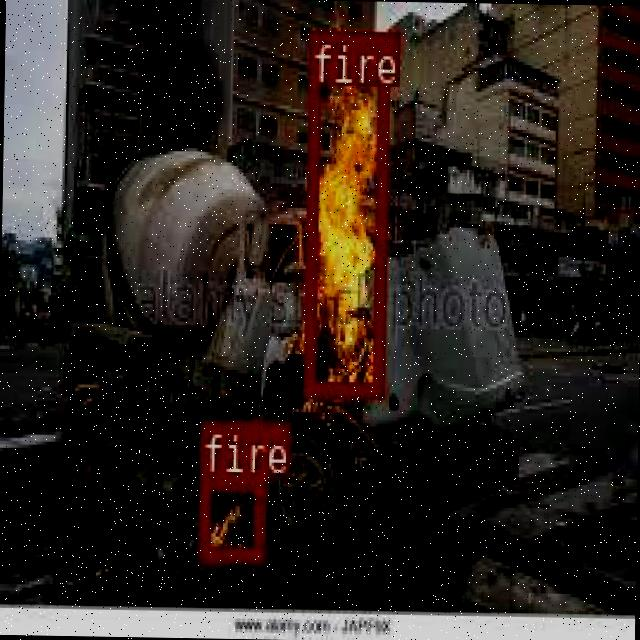fire: (302, 28, 386, 396), (197, 472, 262, 558)
